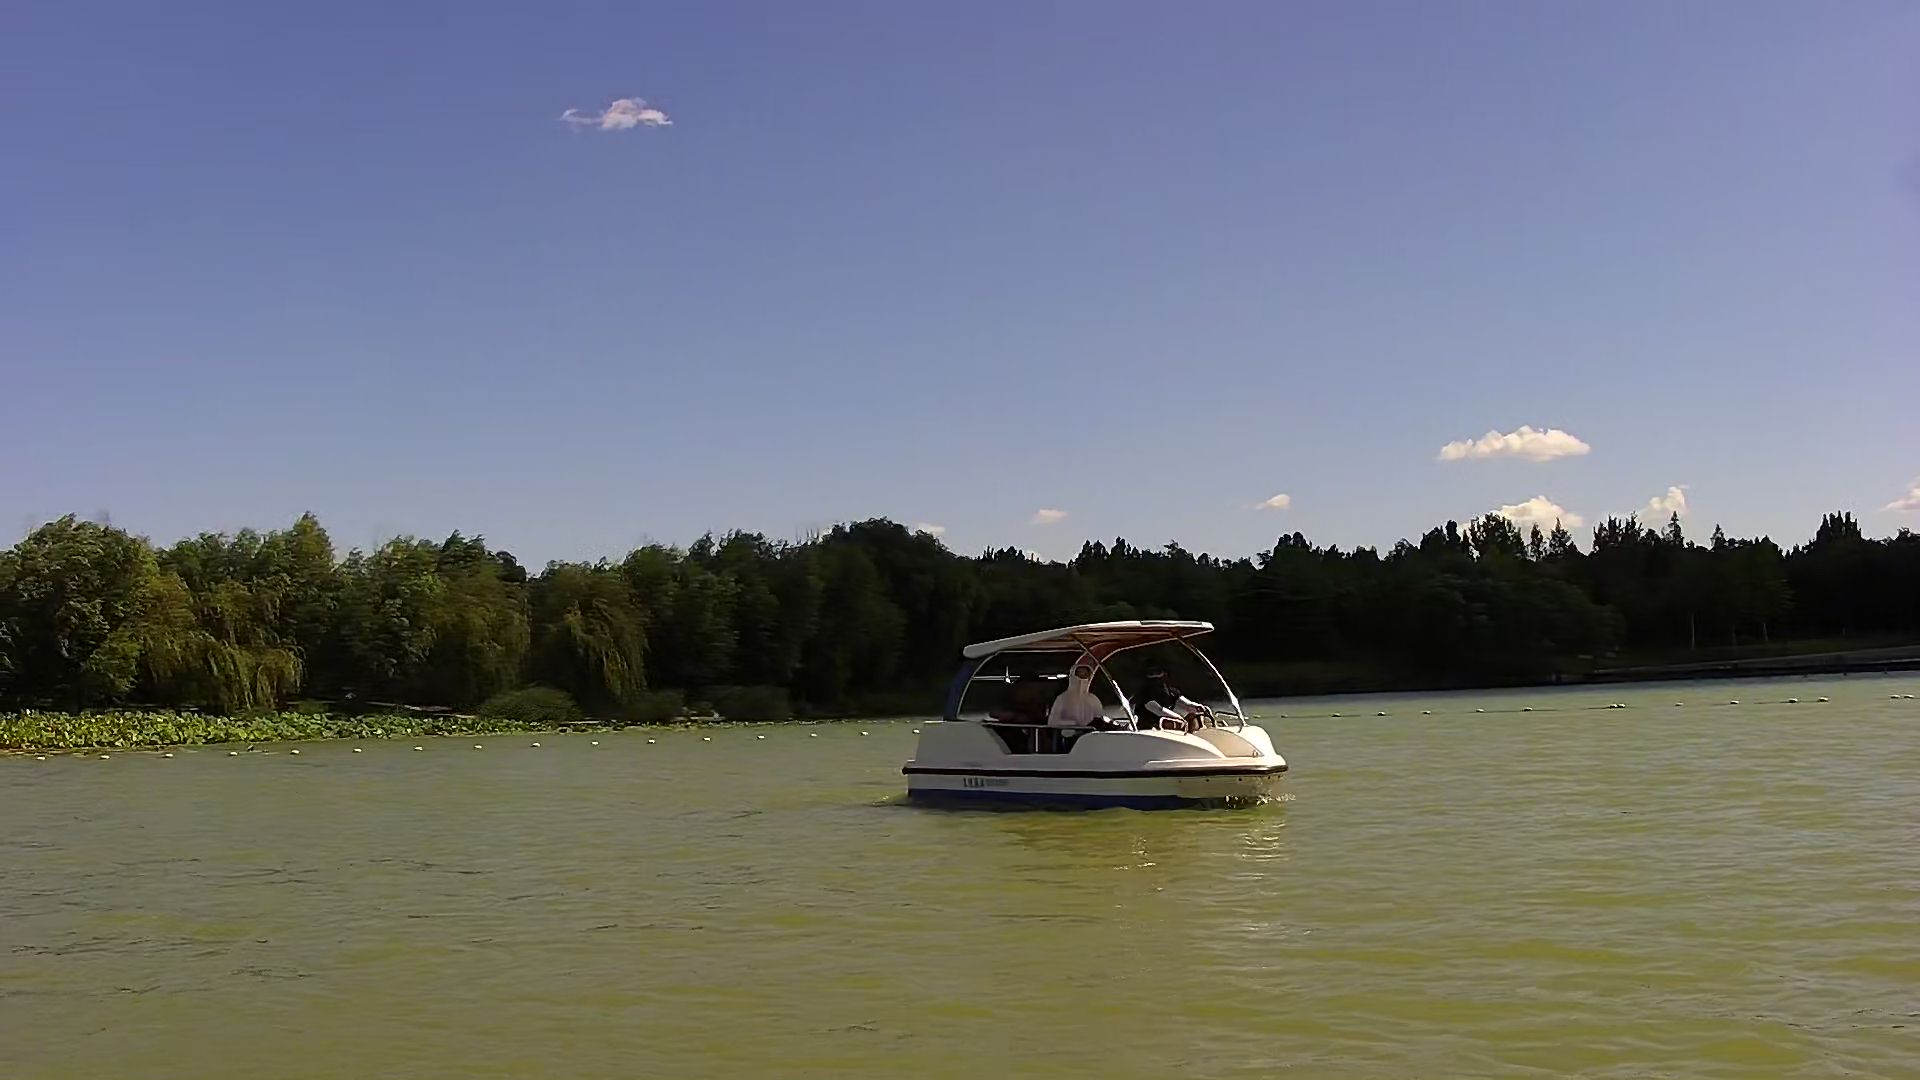boat: (913, 604, 1298, 836)
